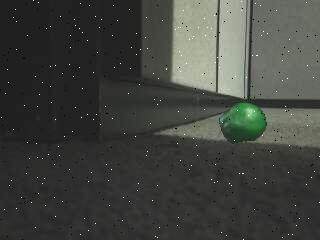Lime: (220, 103, 270, 144)
